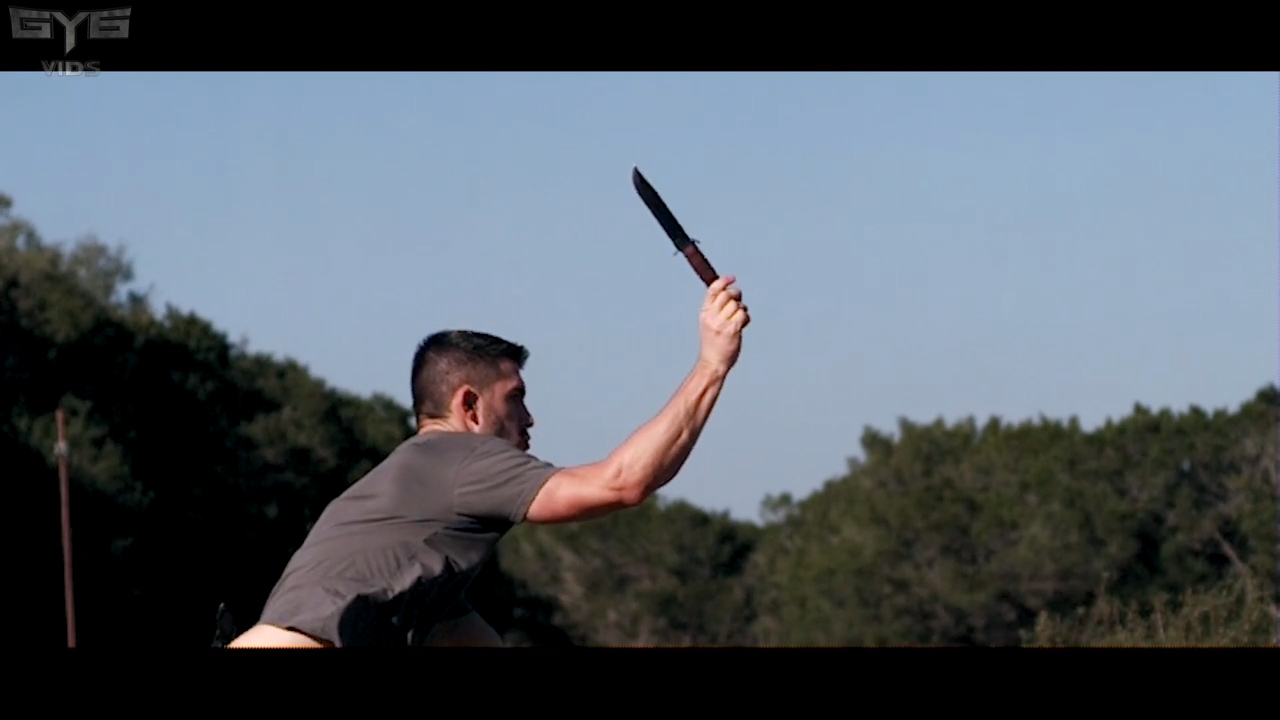knife: (615, 155, 754, 340)
